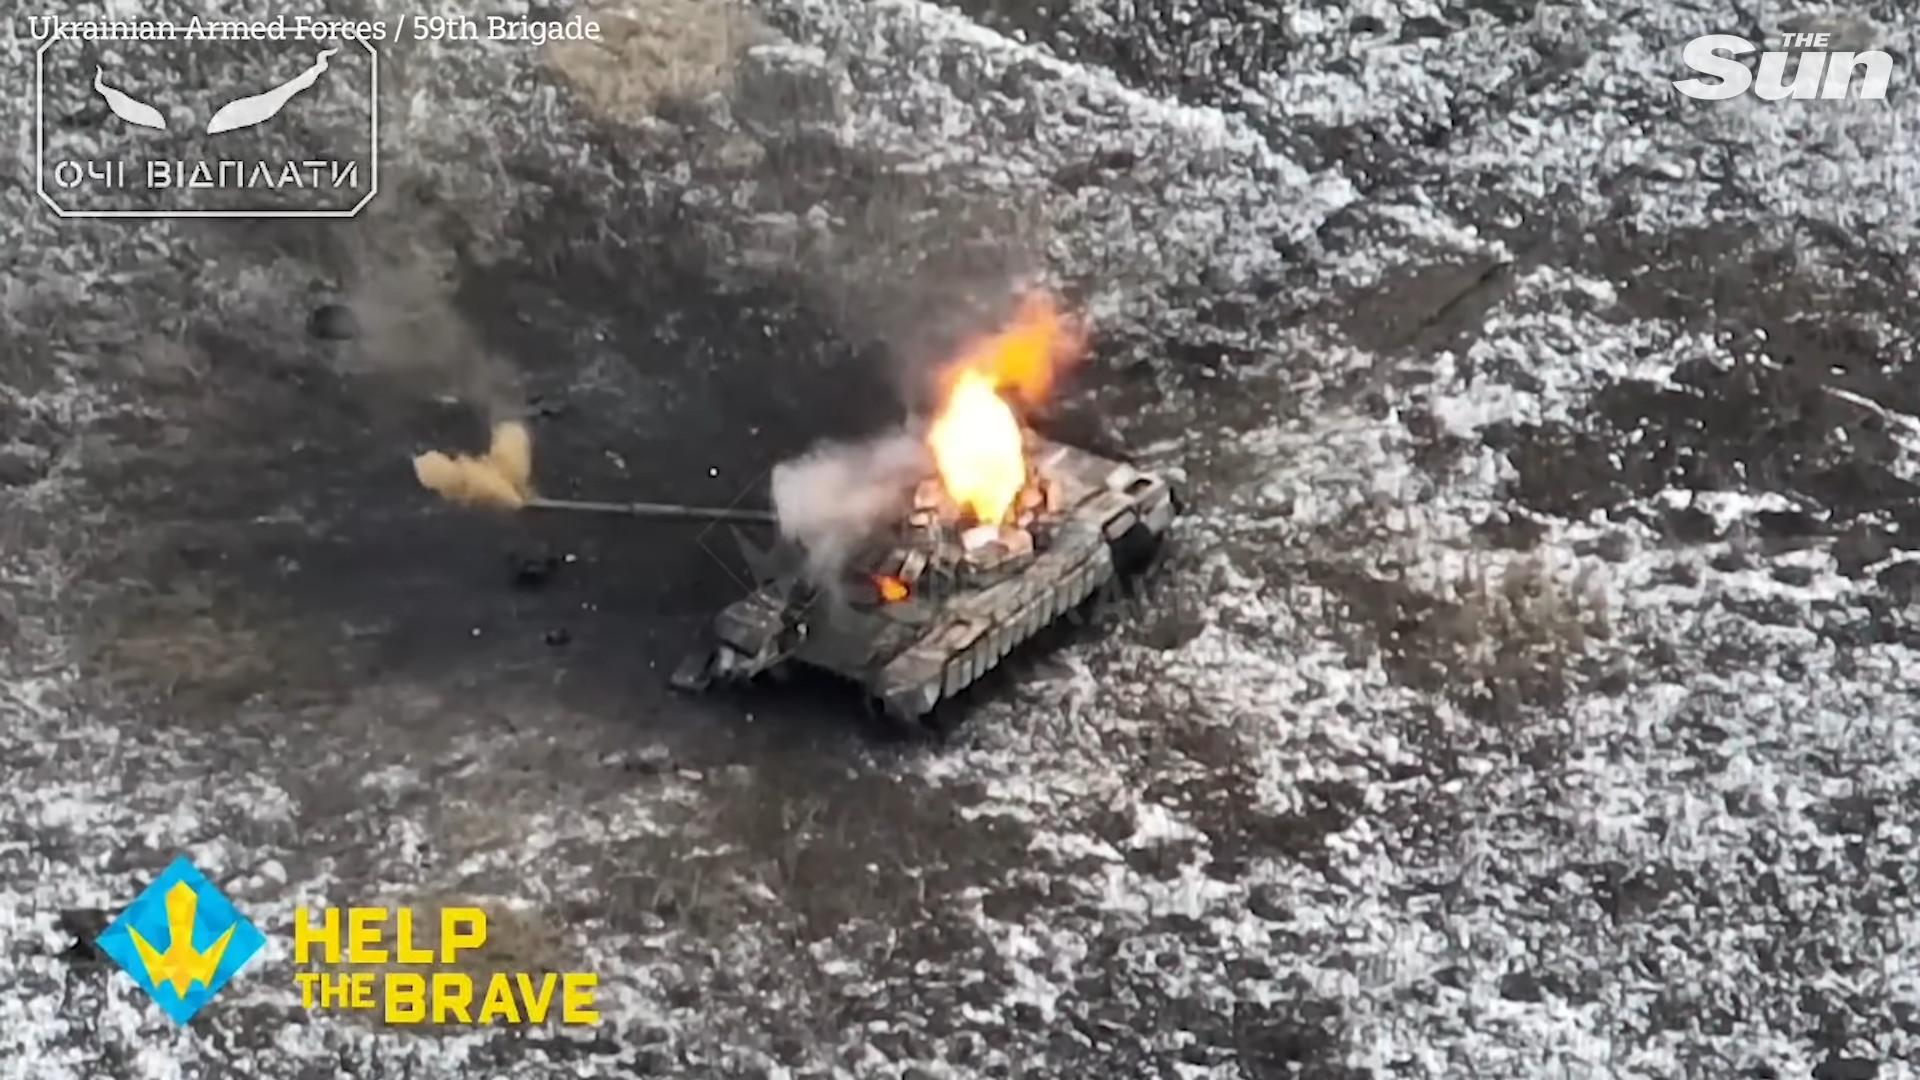tank: (520, 417, 1178, 736)
